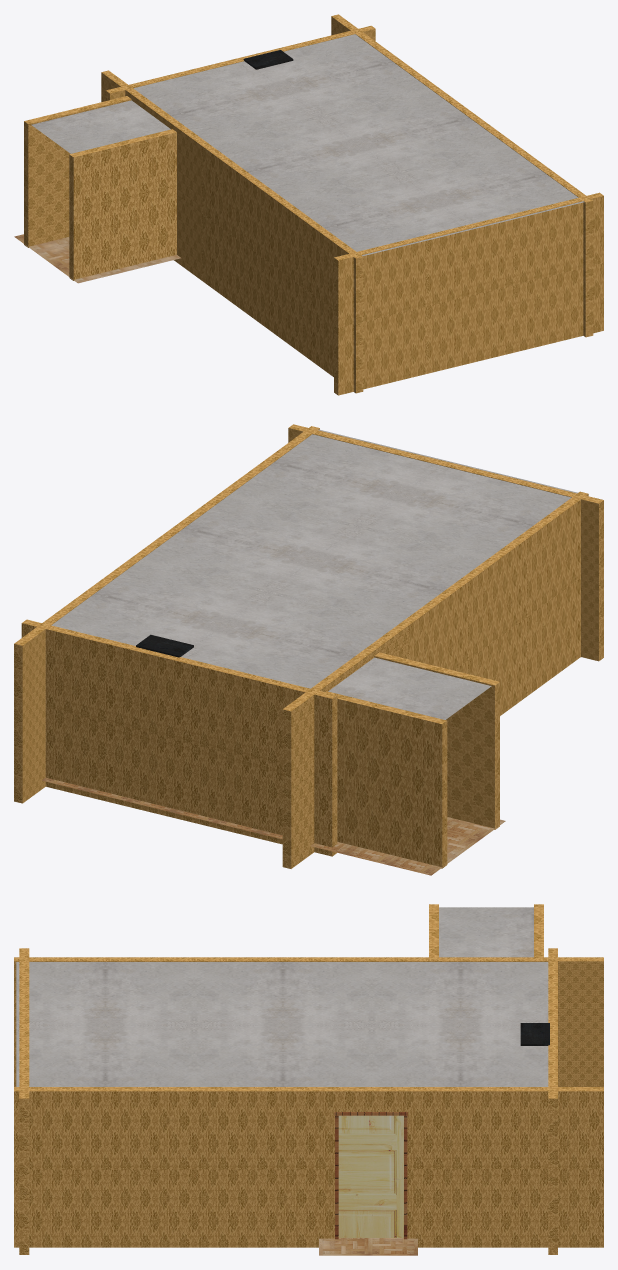
Rendered from Room_1 (1).fbx.
3 views of the same model, one above another, from view 1: azimuth 30°, elevation 25°; view 2: azimuth 150°, elevation 25°; view 3: azimuth 270°, elevation 25° (orthographic). The views are drawn at different scales.
Parts seen in each view (by area): view 1: Cube.034, Cube.032, Cube.029, Cube.033, Cube.030, Cube.031, Cube.035, Cube.003, Plane.083, Plane.085, Plane.077, Plane.081 (+24 smaller); view 2: Cube.035, Cube.008, Cube.006, Cube.034, Cube.005, Cube.009, Cube.004, Cube.007, Plane.081, Plane.085, Plane.077, Plane.083 (+25 smaller); view 3: Cube.026, Cube.022, Cube.025, Cube.028, Cube.001, Cube.027, Cube.042, Cube.024, Cube.023, Cube.021, Cube.010, Plane.085 (+32 smaller).
Boxes of the visible parts, x1,y1,x2,y2 form: Cube.034: [69, 129, 176, 280]; Cube.032: [421, 215, 516, 306]; Cube.029: [425, 284, 516, 373]; Cube.033: [334, 235, 428, 327]; Cube.030: [334, 306, 428, 395]; Cube.031: [509, 192, 603, 284]; Cube.035: [24, 96, 131, 247]; Cube.003: [513, 263, 603, 351]; Plane.083: [248, 145, 397, 199]; Plane.085: [286, 173, 435, 227]; Plane.077: [171, 89, 320, 143]; Plane.081: [209, 117, 358, 171]; Cube.035: [325, 691, 447, 868]; Cube.008: [124, 644, 231, 752]; Cube.006: [124, 726, 227, 830]; Cube.034: [374, 652, 499, 829]; Cube.005: [226, 669, 337, 777]; Cube.009: [21, 619, 128, 727]; Cube.004: [226, 751, 337, 856]; Cube.007: [45, 707, 124, 805]; Plane.081: [269, 559, 443, 623]; Plane.085: [358, 493, 532, 558]; Plane.077: [224, 592, 398, 656]; Plane.083: [314, 526, 488, 590]; Cube.026: [131, 1087, 248, 1169]; Cube.022: [482, 1087, 603, 1169]; Cube.025: [131, 1169, 248, 1247]; Cube.028: [14, 1087, 131, 1169]; Cube.001: [482, 1169, 603, 1247]; Cube.027: [14, 1169, 131, 1247]; Cube.042: [338, 1115, 403, 1237]; Cube.024: [248, 1087, 365, 1169]; Cube.023: [365, 1087, 482, 1169]; Cube.021: [248, 1169, 334, 1247]; Cube.010: [407, 1169, 482, 1247]; Plane.085: [105, 962, 194, 1025].
Size of the model in its own units: 2002 by 703 by 2380.
